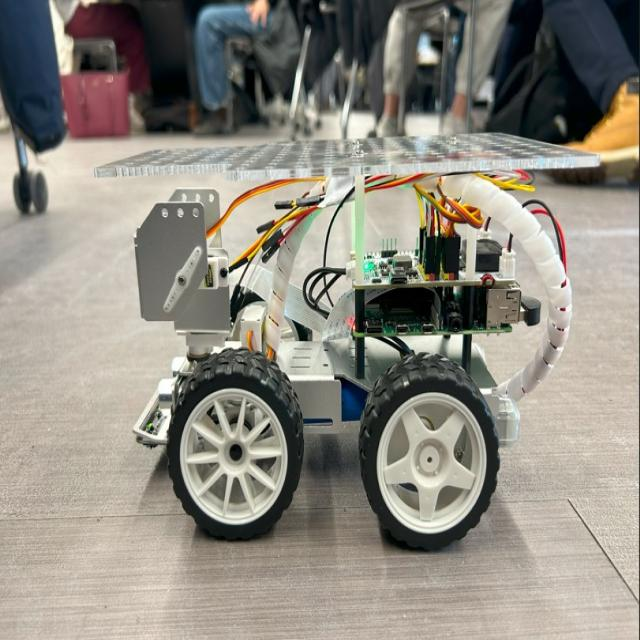vehicle: (83, 103, 609, 573)
